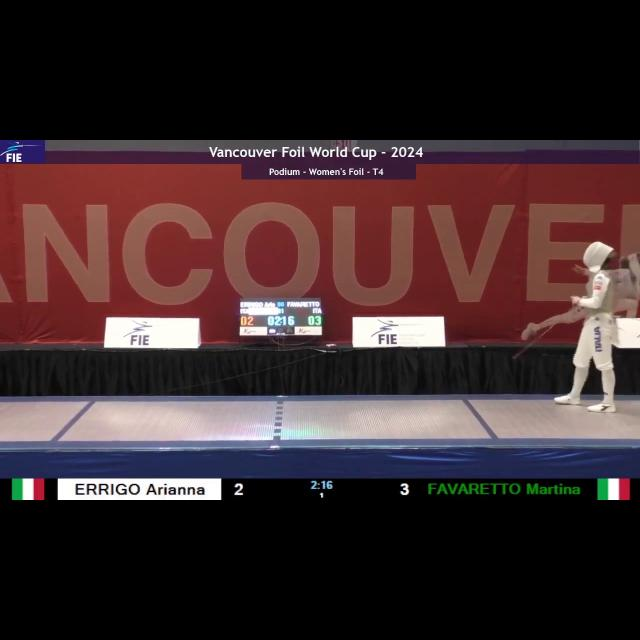blade: (512, 303, 576, 362)
